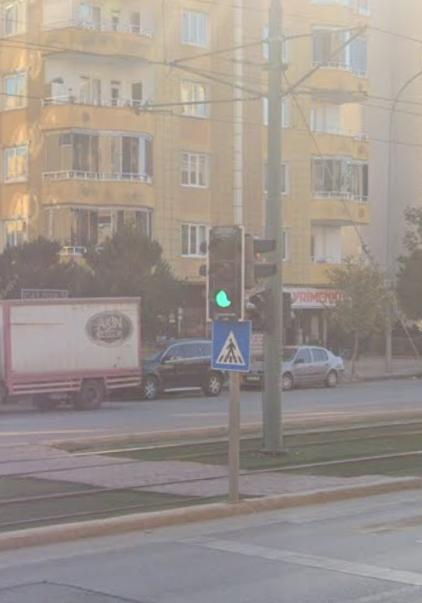greenlight: (208, 230, 238, 312)
